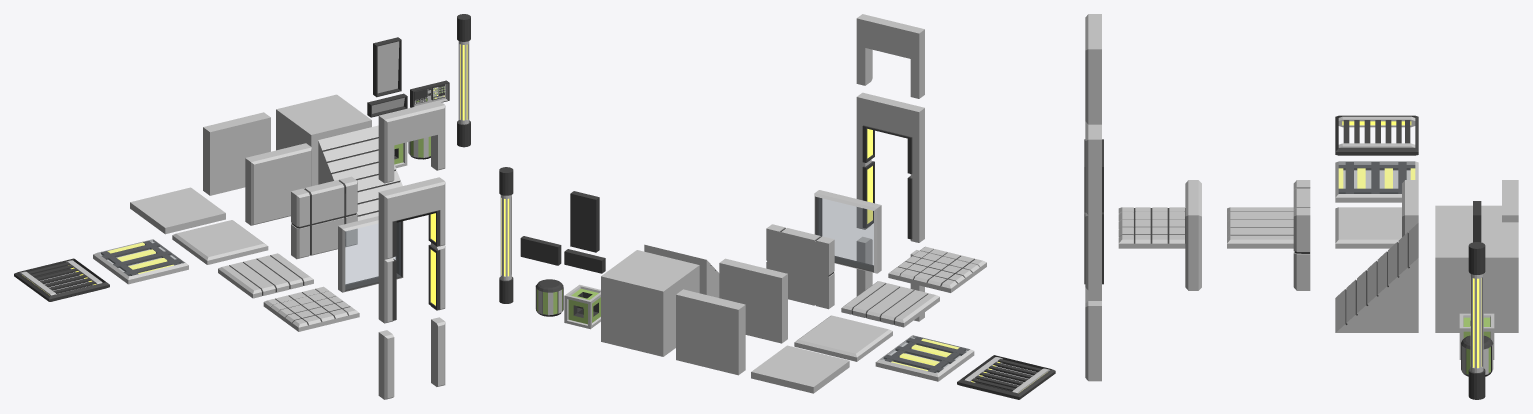
File: Space_Level_Objects.dae
3 views of the same model, side by side, from view 1: azimuth 30°, elevation 25°; view 2: azimuth 150°, elevation 25°; view 3: azimuth 270°, elevation 25° (orthographic). The views are drawn at different scales.
Visible parts, largest first — view 1: Wall_Grid, Wall_Normal, Wall, Stairs, TileSize, Door_Top, Door_Top_CollisonShape, Wall_Window, Floor, Floor_Normal, Floor_Grid, Floor_Light (+9 smaller); view 2: TileSize, Wall, Wall_Grid, Wall_Window, Wall_Normal, Door_Top, Door_Top_CollisonShape, Floor, Floor_Light, Floor_Normal, Floor_Grid, Floor_Lined (+10 smaller); view 3: TileSize, Stairs, Floor_Light, Floor_Holed, Floor_Grid, Floor_Lined, Floor_Normal, Pillar, Wall_Grid, Door_Top_CollisonShape, Wall_Window, Door_Top (+7 smaller).
Part boxes in pixels (x1=…): Wall_Grid: x1=291, y1=176, x2=357, y2=259; Wall_Normal: x1=245, y1=143, x2=311, y2=225; Wall: x1=203, y1=112, x2=270, y2=195; Stairs: x1=318, y1=125, x2=402, y2=220; TileSize: x1=276, y1=94, x2=371, y2=185; Door_Top: x1=378, y1=177, x2=445, y2=259; Door_Top_CollisonShape: x1=378, y1=101, x2=445, y2=183; Wall_Window: x1=338, y1=216, x2=403, y2=292; Floor: x1=130, y1=187, x2=225, y2=234; Floor_Normal: x1=172, y1=220, x2=268, y2=264; Floor_Grid: x1=263, y1=286, x2=359, y2=331; Floor_Light: x1=93, y1=239, x2=188, y2=284; TileSize: x1=601, y1=250, x2=699, y2=356; Wall: x1=676, y1=289, x2=745, y2=375; Wall_Grid: x1=766, y1=224, x2=834, y2=309; Wall_Window: x1=814, y1=190, x2=881, y2=273; Wall_Normal: x1=719, y1=258, x2=787, y2=343; Door_Top: x1=856, y1=92, x2=924, y2=177; Door_Top_CollisonShape: x1=856, y1=14, x2=924, y2=98; Floor: x1=751, y1=345, x2=849, y2=393; Floor_Light: x1=875, y1=335, x2=974, y2=381; Floor_Normal: x1=794, y1=315, x2=892, y2=361; Floor_Grid: x1=888, y1=246, x2=986, y2=292; Floor_Lined: x1=841, y1=281, x2=939, y2=327; TileSize: x1=1435, y1=222, x2=1518, y2=332; Stairs: x1=1335, y1=223, x2=1418, y2=332; Floor_Light: x1=1335, y1=161, x2=1418, y2=202; Floor_Holed: x1=1335, y1=115, x2=1418, y2=155; Floor_Grid: x1=1118, y1=207, x2=1185, y2=248; Floor_Lined: x1=1227, y1=207, x2=1293, y2=248; Floor_Normal: x1=1335, y1=207, x2=1401, y2=248; Pillar: x1=1468, y1=242, x2=1485, y2=399; Wall_Grid: x1=1293, y1=180, x2=1310, y2=290; Door_Top_CollisonShape: x1=1085, y1=14, x2=1101, y2=124; Wall_Window: x1=1185, y1=180, x2=1201, y2=290; Door_Top: x1=1084, y1=121, x2=1103, y2=215.
Size of what is drawn, in the model's own units: 79 by 52.15 by 44.
